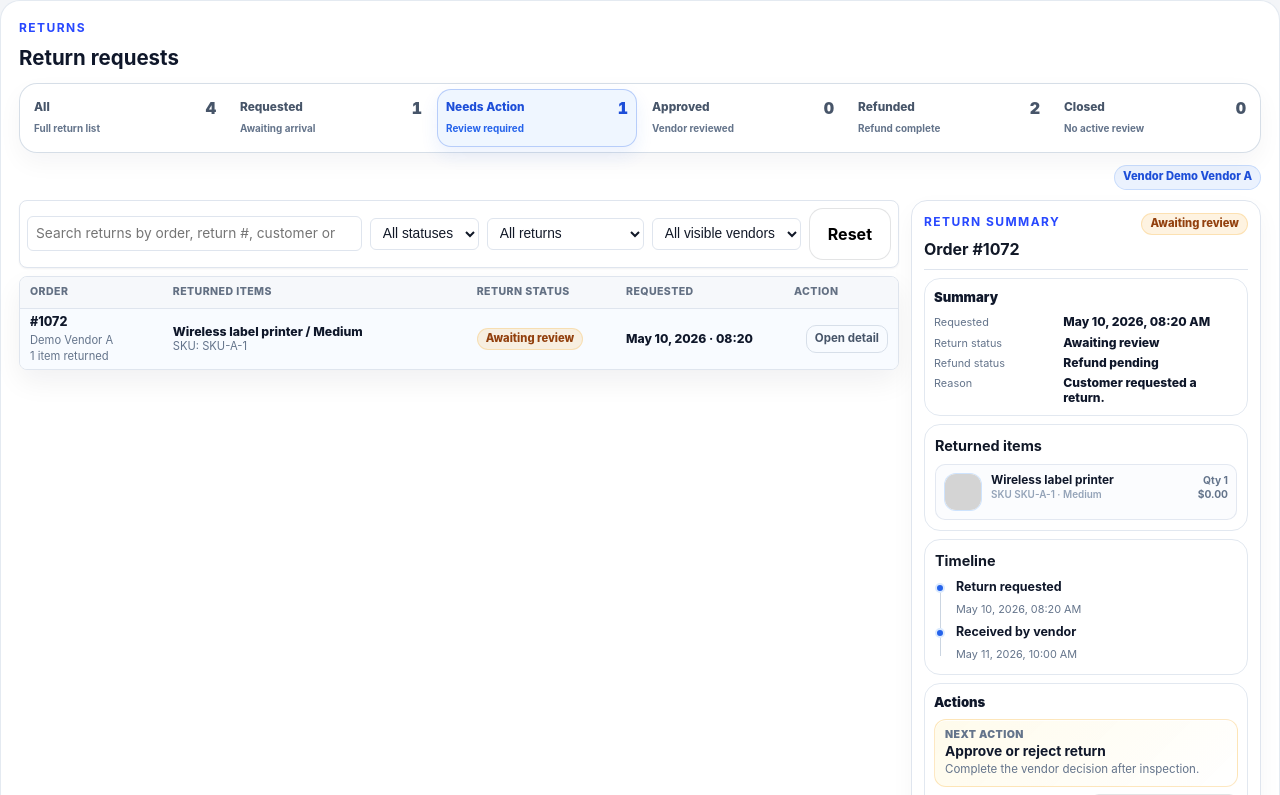
Test case: ReturnsPage control center › uses workflow query params to open pending return review and allows reset
The image size is (1280, 795).
Check: the text "Wireless label printer" is shown, box [991, 473, 1114, 487]
Check: the text "#1072" is shown, box [30, 314, 67, 329]
Click the button "All 4 Full return list". click: click(125, 118)
box: [25, 89, 225, 147]
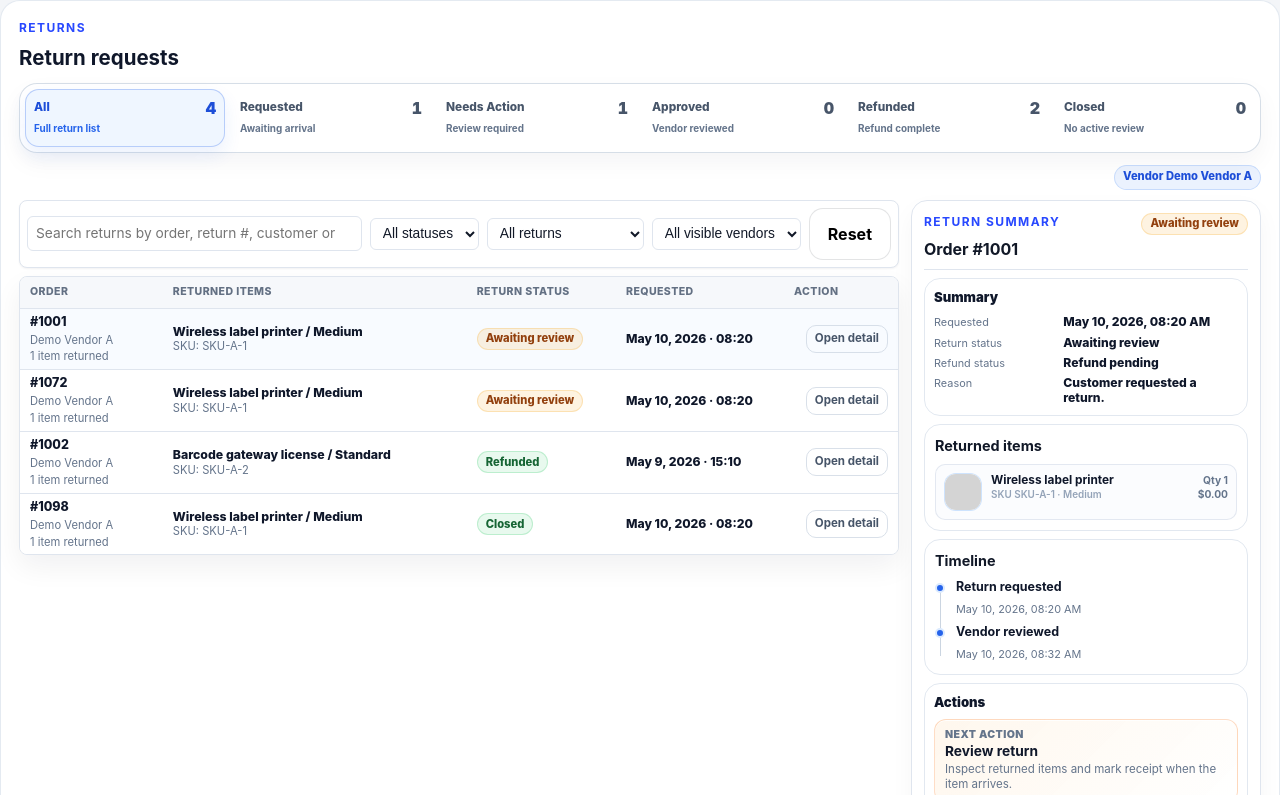
Check: the text "Barcode gateway license / Standard" is shown, box [173, 447, 391, 462]
Check: the text "#1098" is shown, box [30, 499, 69, 514]
